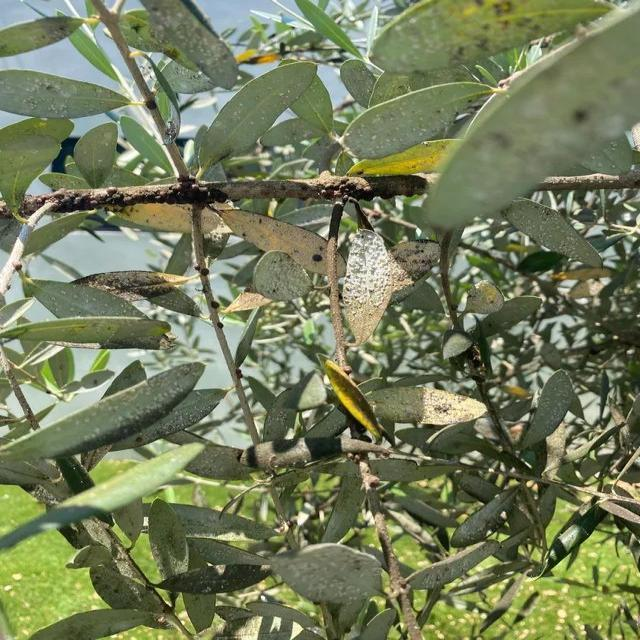BlackScale: (0, 176, 231, 218), (308, 176, 397, 202), (144, 99, 158, 112), (210, 299, 219, 310), (312, 253, 322, 262), (200, 267, 210, 276), (217, 322, 223, 329)
